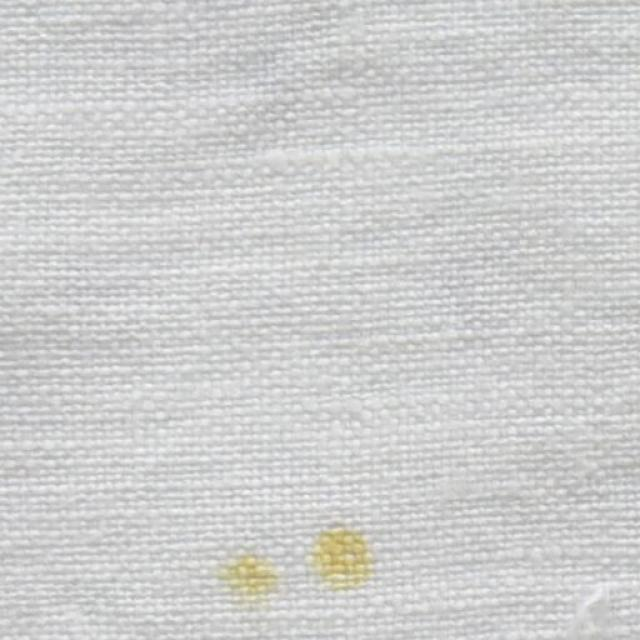Stain: (312, 529, 374, 592), (219, 556, 280, 598)
